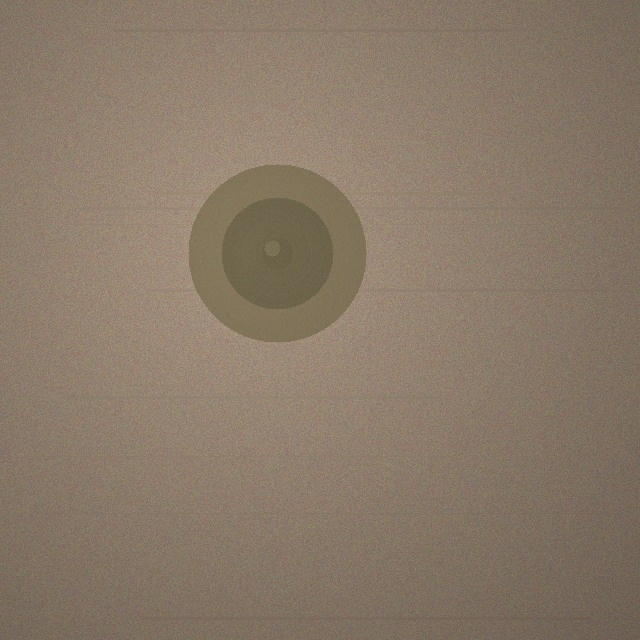good: (188, 164, 366, 342)
